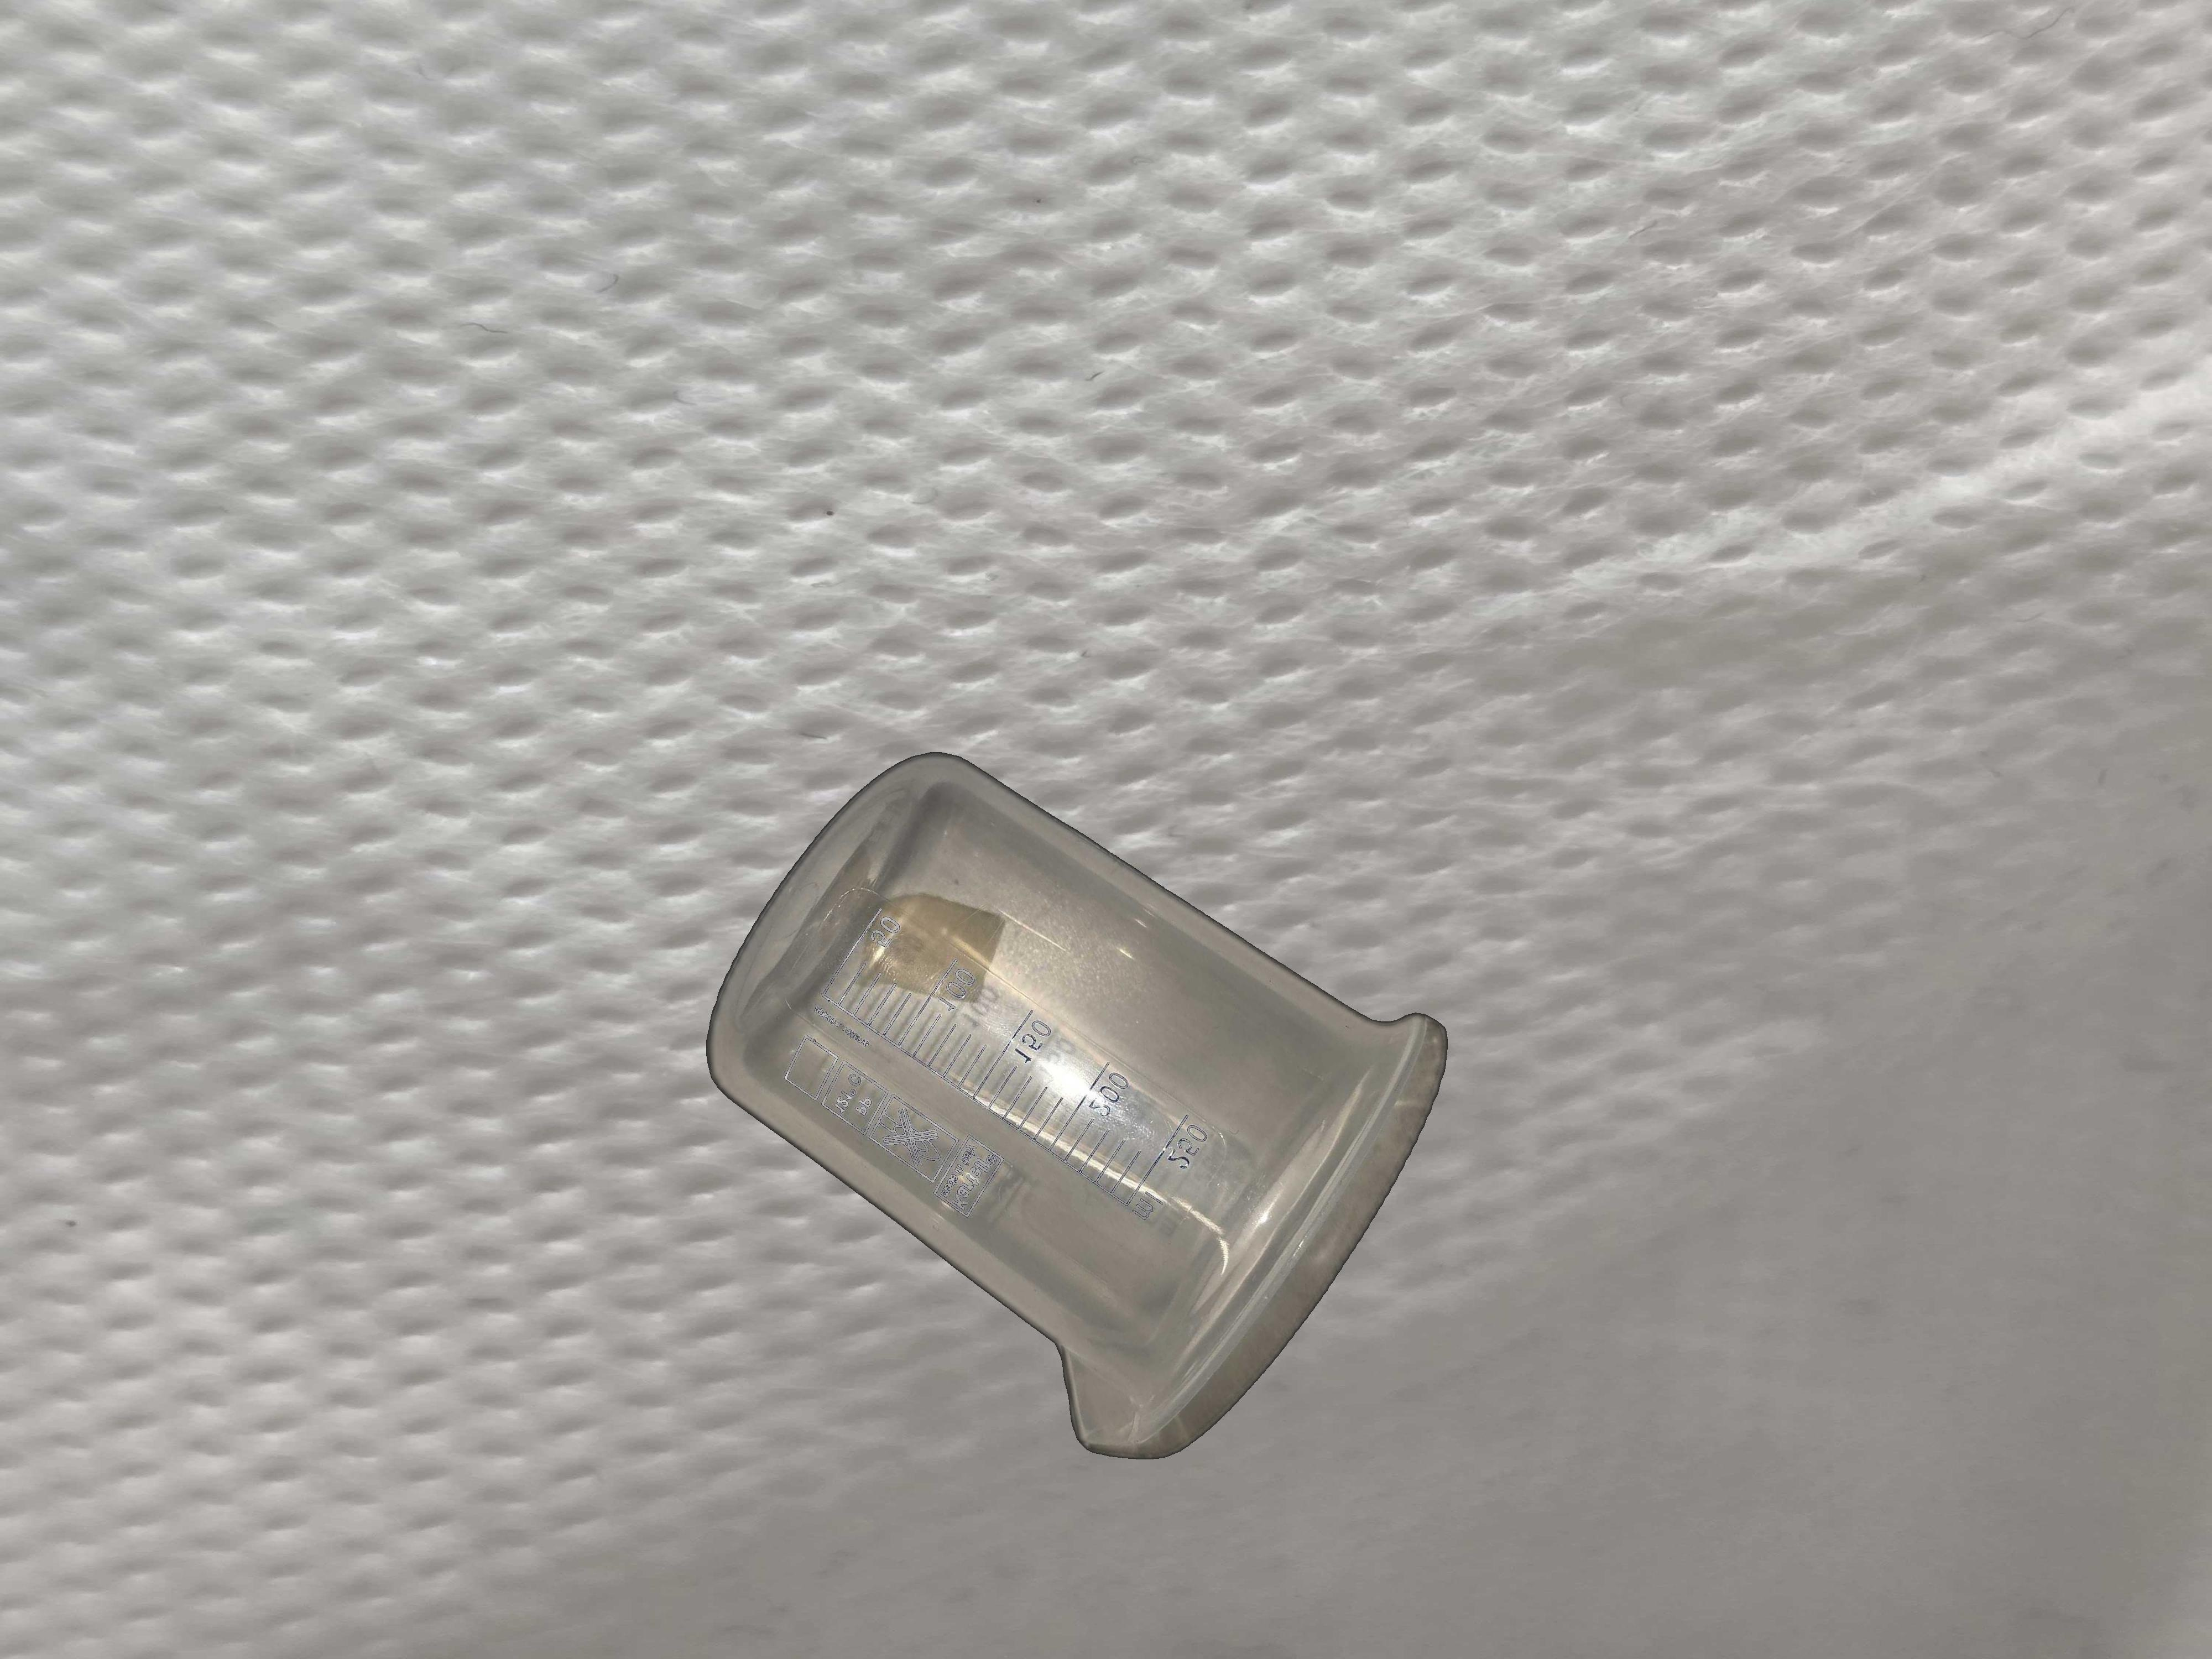becker: (704, 753, 1453, 1467)
